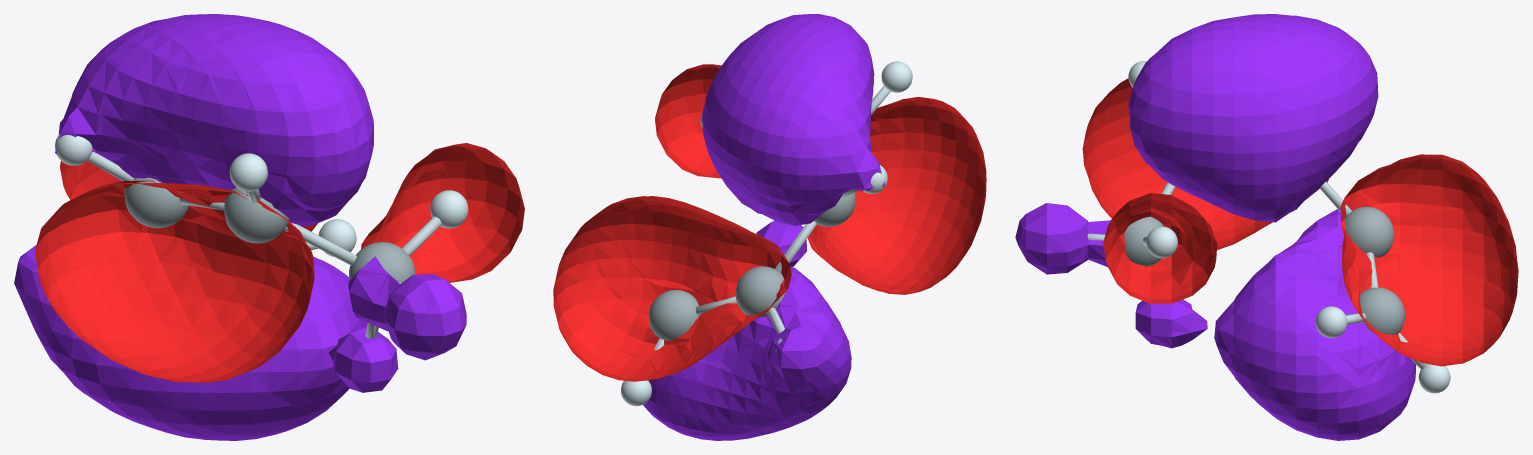
3 views of the same model, side by side, from view 1: azimuth 30°, elevation 25°; view 2: azimuth 150°, elevation 25°; view 3: azimuth 270°, elevation 25° (orthographic). The views are drawn at different scales.
Parts seen in each view (by area): view 1: Renderer Node; view 2: Renderer Node; view 3: Renderer Node.
Boxes of the visible parts, <box> form: Renderer Node: <box>14,14,524,440</box>; Renderer Node: <box>553,14,986,440</box>; Renderer Node: <box>1015,14,1518,440</box>.
Bounding box in the file's own units: 4.97 × 5.26 × 6.3.
